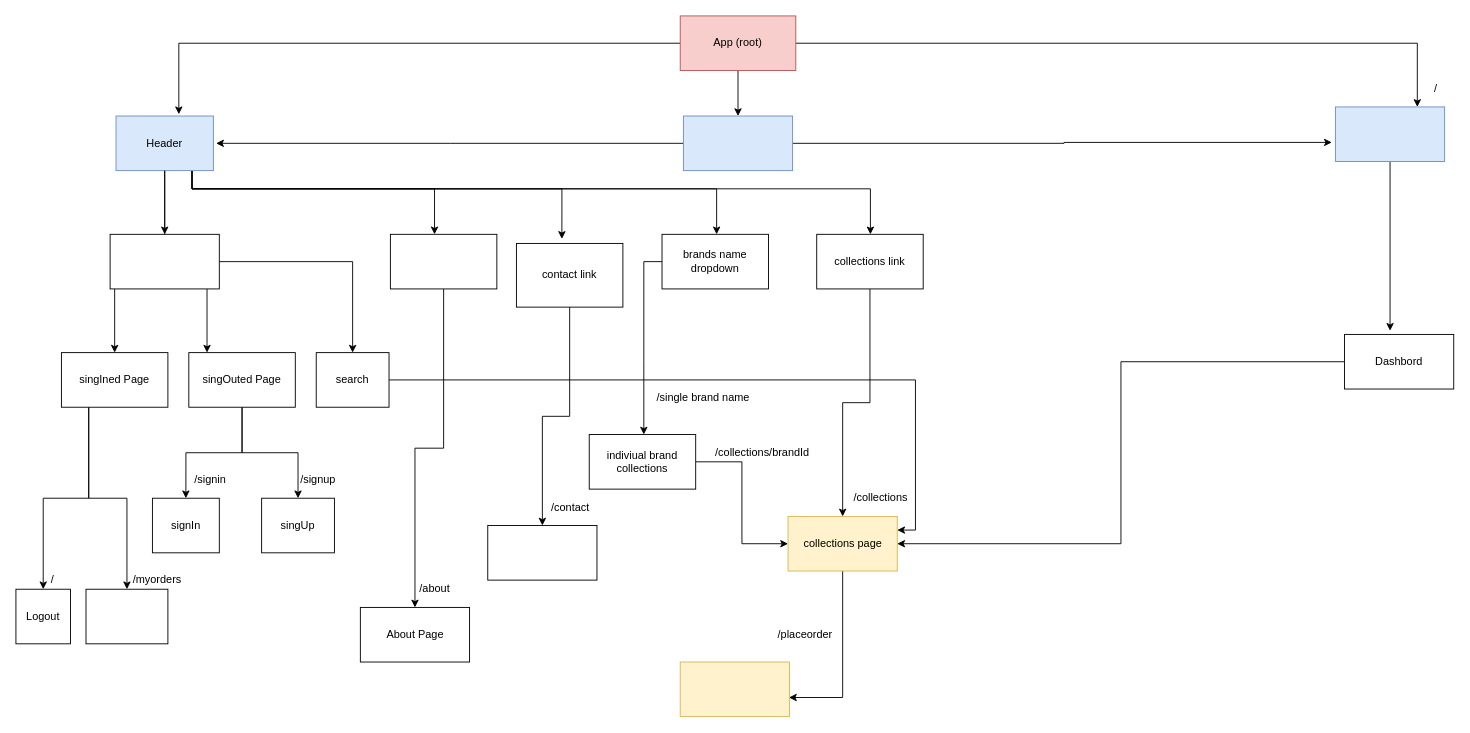
This 1470x733 diagram has some shape labels left out. The centre of each missing label's shape, as x and y in pixels:
"about link" belongs at point (443, 261).
"Contact Page" belongs at point (542, 552).
"footer" belongs at point (737, 143).
"Home" belongs at point (1390, 134).
"My Orders" belongs at point (126, 616).
"Navbar" belongs at point (164, 261).
"Order Place page" belongs at point (734, 689).
